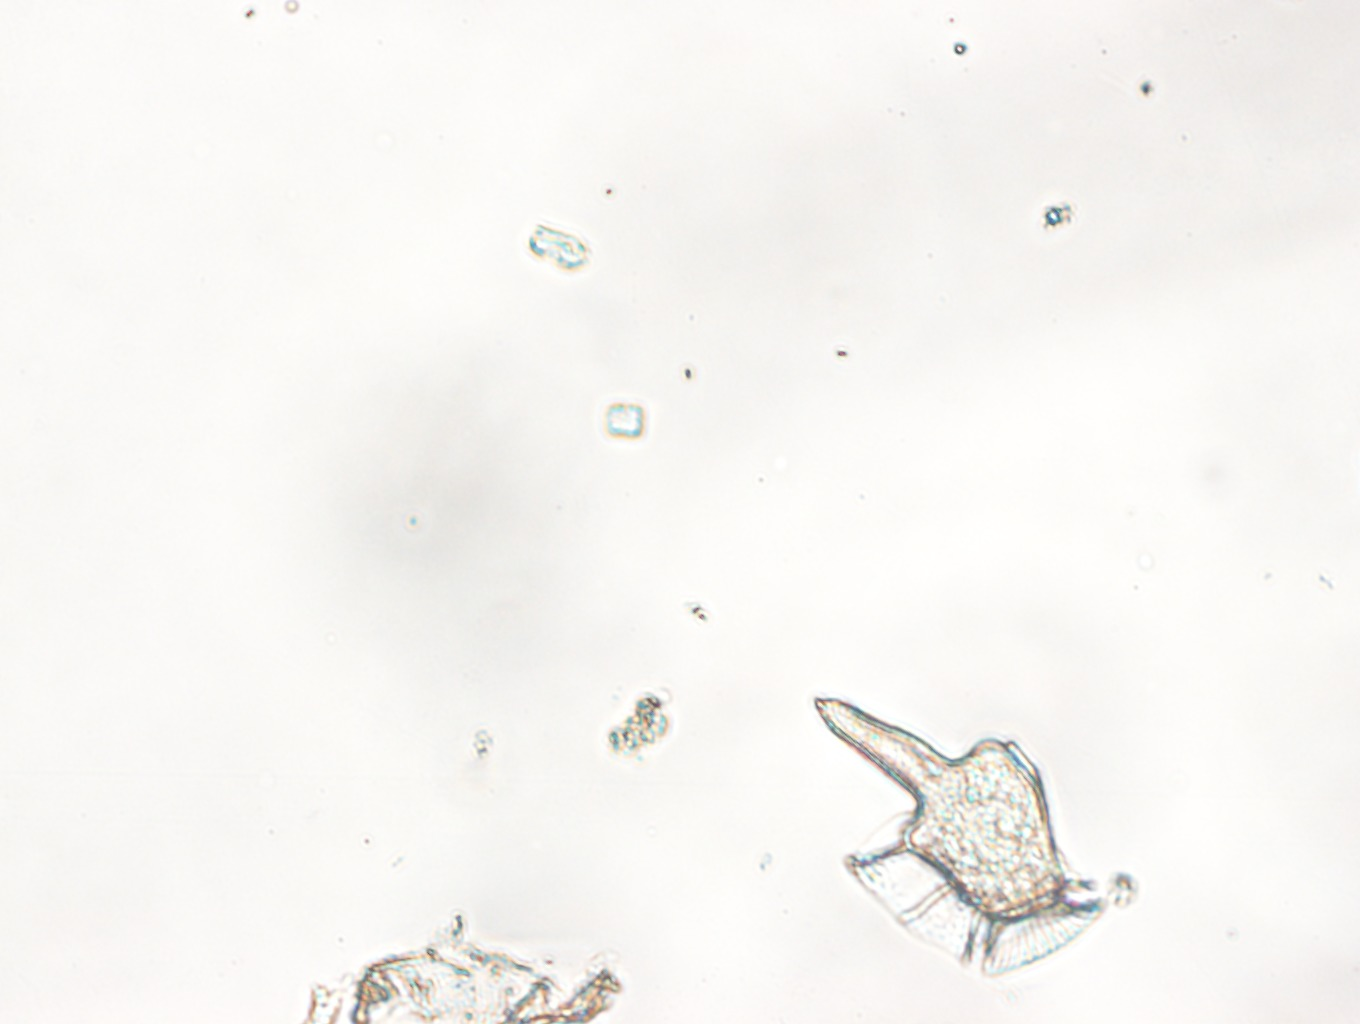dinophysis caudata: (808, 694, 1115, 980)
